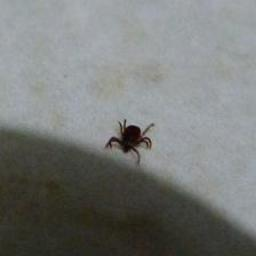Rhipicephalus sanguineus: (105, 121, 155, 166)
